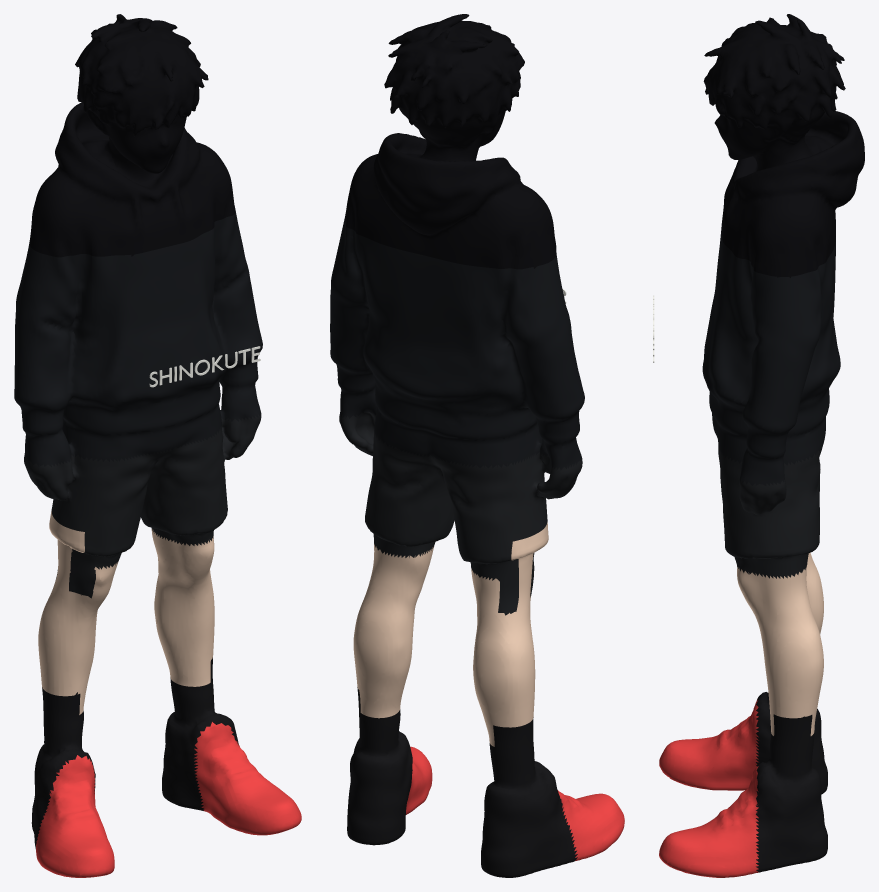
Rendered from character_shinokute_hunyuan_mv_styled_candidate.glb.
3 views of the same model, side by side, from view 1: azimuth 30°, elevation 25°; view 2: azimuth 150°, elevation 25°; view 3: azimuth 270°, elevation 25° (orthographic). The views are drawn at different scales.
Parts seen in each view (by area): view 1: Shinokute_Hunyuan_Styled_Geometry, Shinokute_Hoodie_Text_Decal; view 2: Shinokute_Hunyuan_Styled_Geometry; view 3: Shinokute_Hunyuan_Styled_Geometry.
Part boxes in pixels (x1,y1,x2,y2): Shinokute_Hunyuan_Styled_Geometry: (14, 14, 301, 877); Shinokute_Hoodie_Text_Decal: (149, 346, 260, 387); Shinokute_Hunyuan_Styled_Geometry: (330, 14, 624, 877); Shinokute_Hunyuan_Styled_Geometry: (659, 14, 864, 877).
Size of the model in its own units: 0.6274 by 1.96 by 0.4705.
